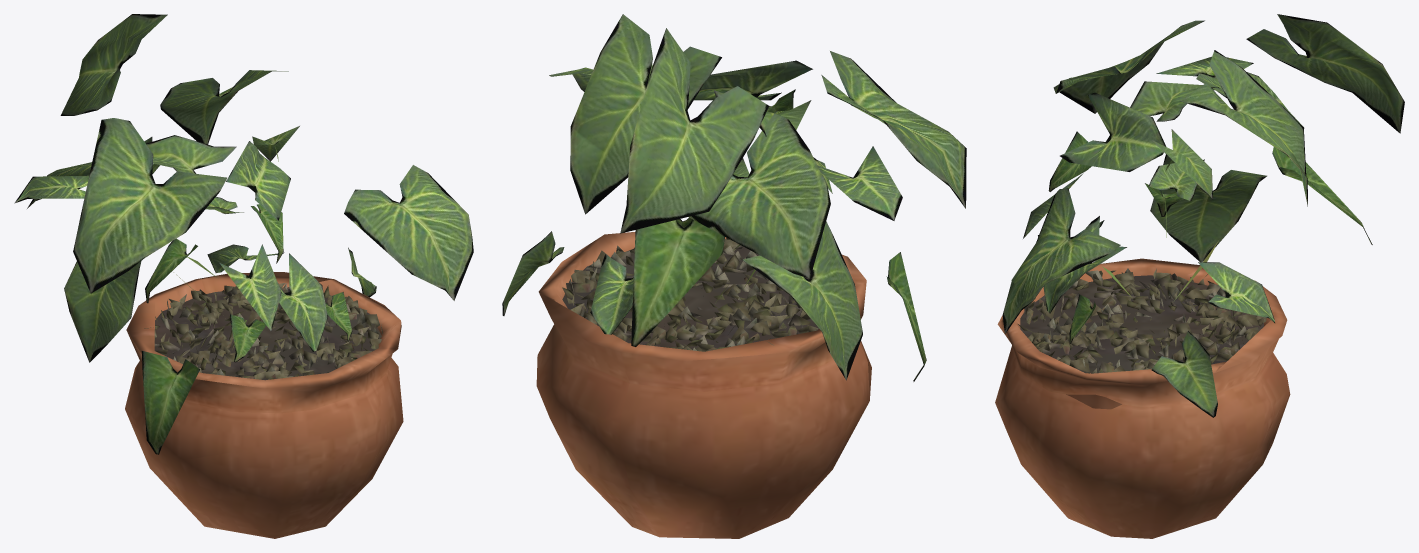
File: plant.glb
The picture shows the model from 3 angles, left to right: view 1: azimuth 30°, elevation 25°; view 2: azimuth 150°, elevation 25°; view 3: azimuth 270°, elevation 25°; orthographic projection. The views are drawn at different scales.
Parts seen in each view (by area): view 1: potted_plant_02_leaves, potted_plant_02_pot; view 2: potted_plant_02_leaves, potted_plant_02_pot; view 3: potted_plant_02_pot, potted_plant_02_leaves.
Boxes of the visible parts, box(x1,y1,x2,y2) form: potted_plant_02_leaves: box(14, 14, 473, 454); potted_plant_02_pot: box(125, 272, 403, 538); potted_plant_02_leaves: box(502, 14, 966, 381); potted_plant_02_pot: box(536, 232, 871, 538); potted_plant_02_pot: box(995, 258, 1290, 538); potted_plant_02_leaves: box(1002, 14, 1404, 417).
Bounding box in the file's own units: 0.7009 × 0.8395 × 0.6554.
2 materials, 2 textured.
